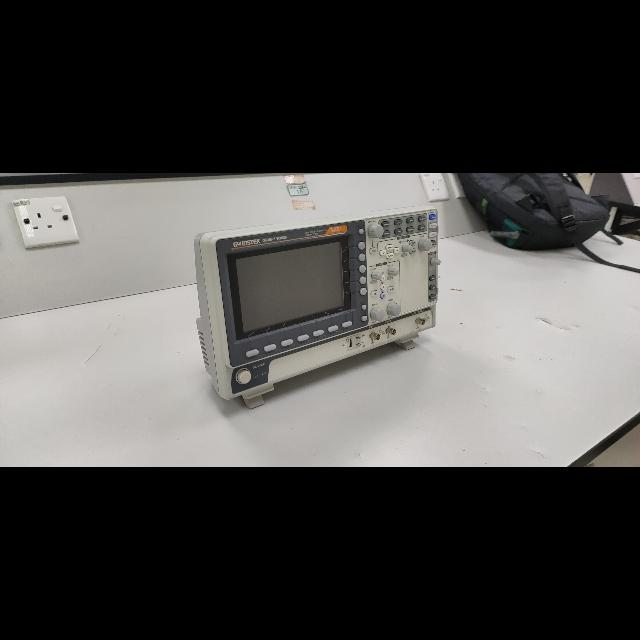Digital-Oscilloscope: (192, 205, 440, 409)
